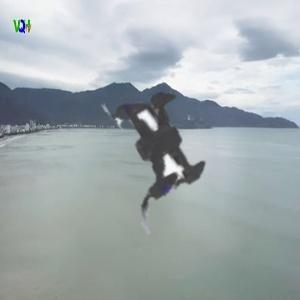drone: (32, 10, 289, 267)
